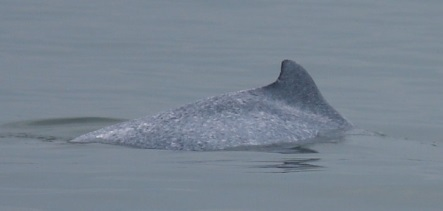fin: (63, 54, 370, 172)
